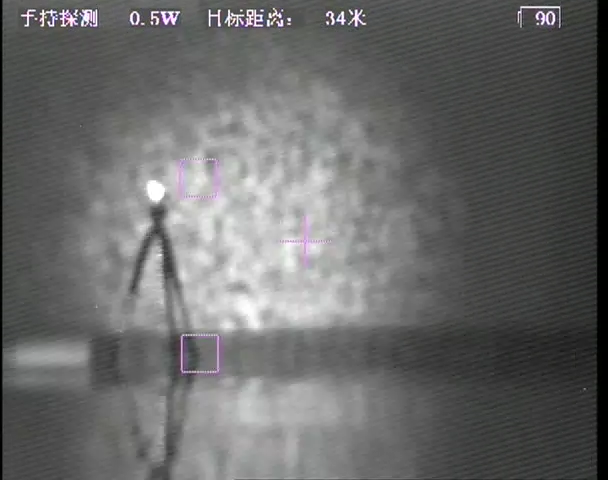my: (144, 180, 166, 201)
